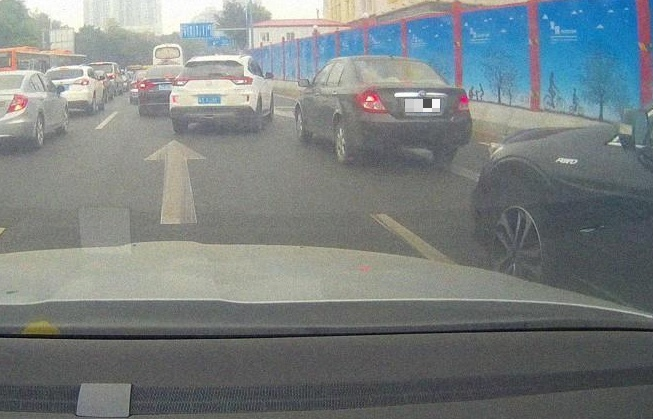L_light: (356, 91, 387, 113), (171, 77, 189, 86)
R_light: (455, 95, 470, 111), (230, 77, 252, 84)
T_light: (384, 59, 403, 64), (198, 76, 220, 79)
day-brake: (354, 56, 473, 165)
day-no: (169, 55, 253, 133)
plate_1: (405, 99, 440, 112)
